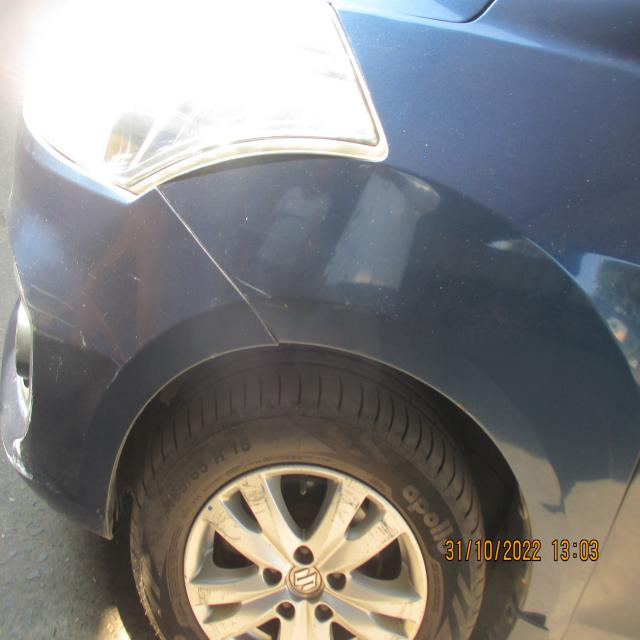damage: (24, 272, 99, 369), (235, 272, 275, 302)
